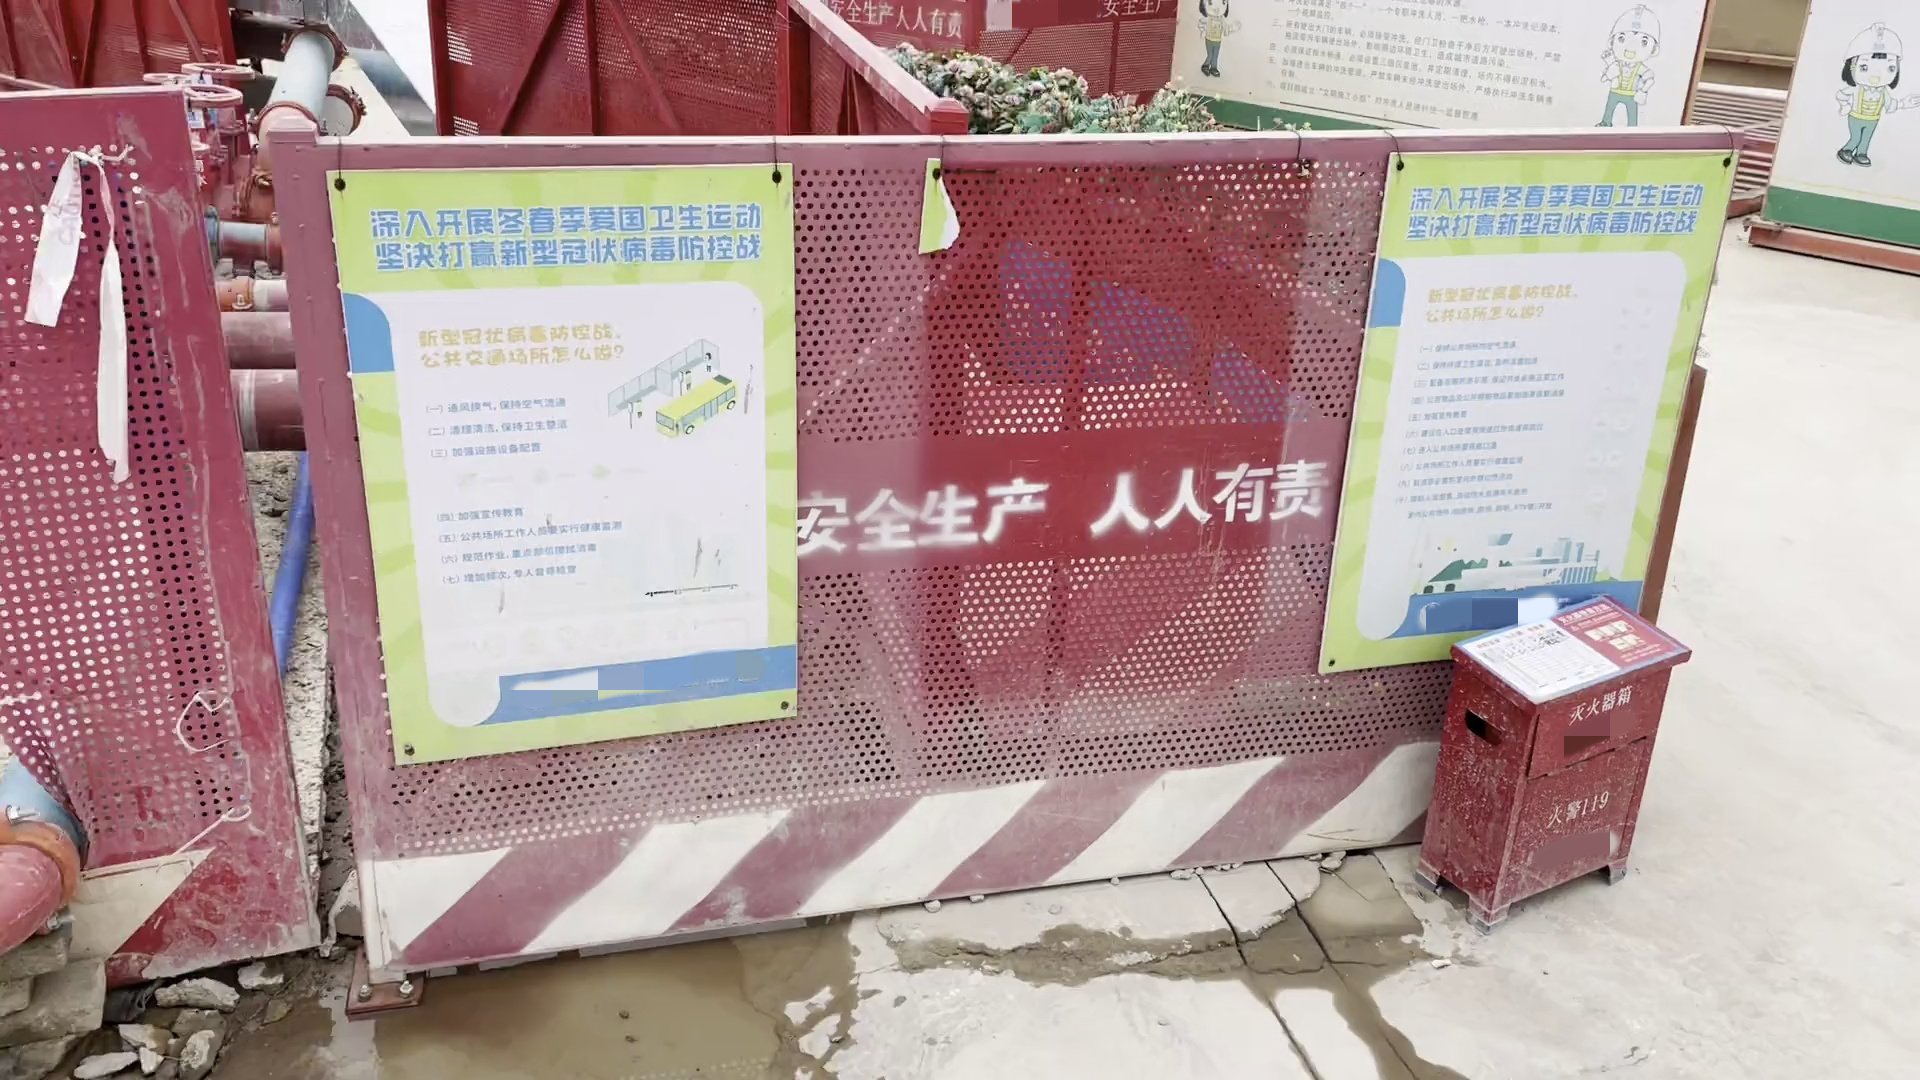fence: (1, 102, 1738, 891)
slogan: (324, 177, 804, 740), (1357, 167, 1658, 665), (790, 460, 1337, 541)
